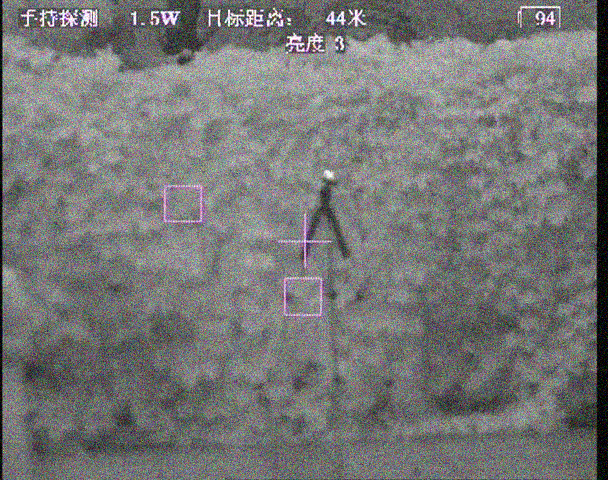my: (323, 168, 335, 180)
